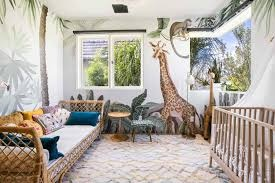crib: (210, 107, 274, 182)
